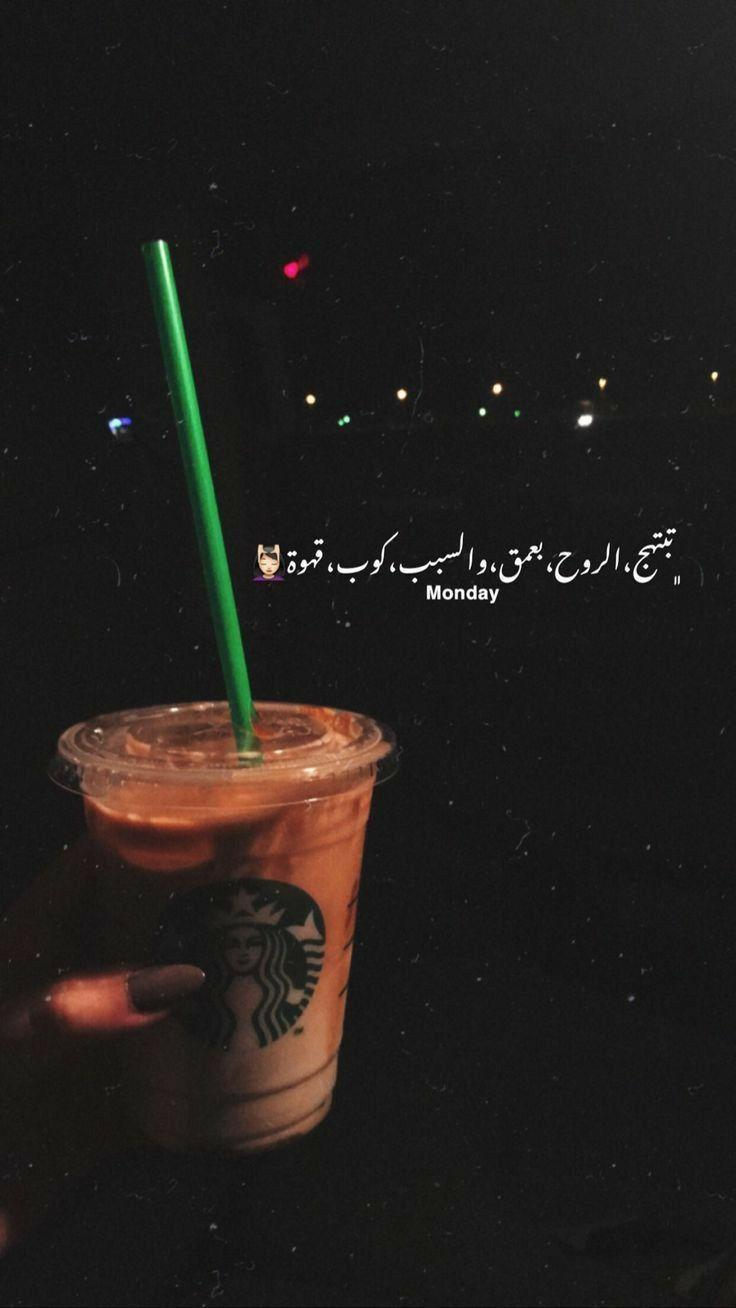cup-disposable: (58, 693, 392, 1157)
